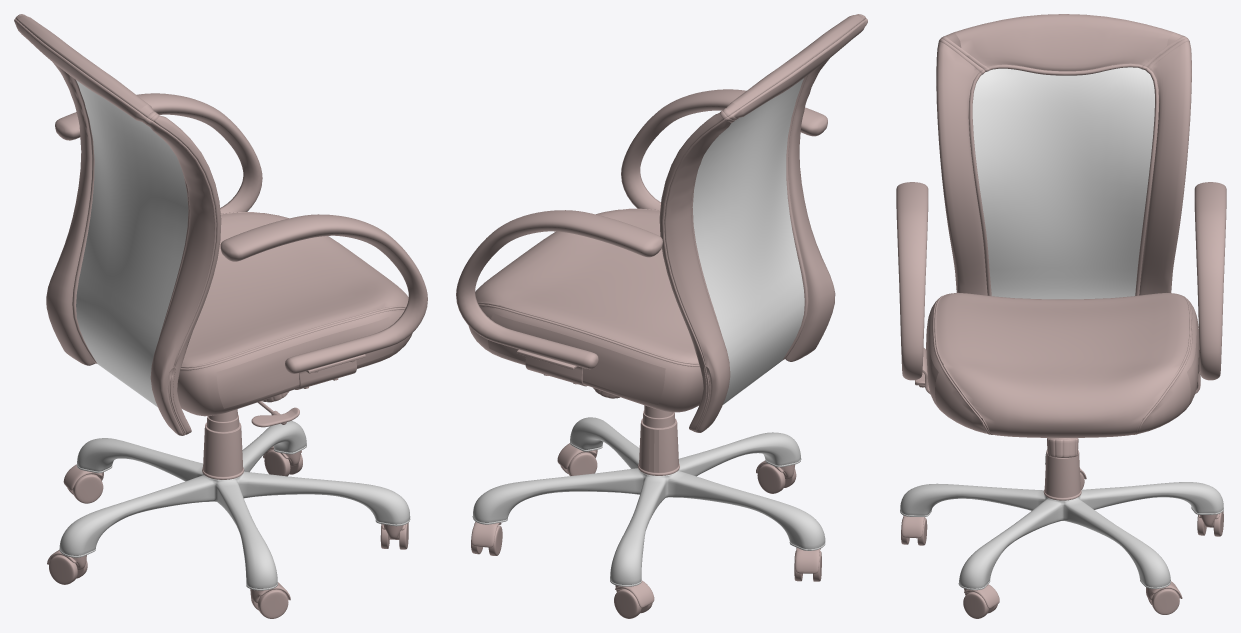
File: LightChair.glb
The picture shows the model from 3 angles, left to right: view 1: azimuth 30°, elevation 25°; view 2: azimuth 150°, elevation 25°; view 3: azimuth 270°, elevation 25°; orthographic projection. The views are drawn at different scales.
Parts seen in each view (by area): view 1: Box02, Box01, Rectangle02_Chrome_0.001, Line04, Line05, Cylinder01, Rectangle11, Cylinder24, Cylinder25_Matteplastic_0.001, Cylinder02, Cylinder19, Circle01; view 2: Box02, Box01, Rectangle02_Chrome_0.001, Line05, Line04, Cylinder01, Rectangle11, Cylinder24, Cylinder02, Cylinder22, Cylinder26, Cylinder20; view 3: Box02, Box01, Rectangle02_Chrome_0.001, Line04, Line05, Cylinder01, Cylinder03, Cylinder19, Cylinder22, Cylinder23.
Part boxes in pixels (bbox=[...]): Box02: bbox=[14, 14, 221, 435]; Box01: bbox=[177, 212, 412, 416]; Rectangle02_Chrome_0.001: bbox=[59, 421, 410, 590]; Line04: bbox=[220, 214, 427, 373]; Line05: bbox=[55, 93, 262, 213]; Cylinder01: bbox=[202, 409, 244, 479]; Rectangle11: bbox=[295, 354, 365, 389]; Cylinder24: bbox=[251, 589, 288, 618]; Cylinder25_Matteplastic_0.001: bbox=[49, 555, 87, 584]; Cylinder02: bbox=[67, 474, 103, 503]; Cylinder19: bbox=[264, 449, 302, 476]; Circle01: bbox=[251, 407, 299, 427]; Box02: bbox=[659, 14, 867, 432]; Box01: bbox=[468, 208, 703, 412]; Rectangle02_Chrome_0.001: bbox=[472, 417, 825, 586]; Line05: bbox=[456, 210, 662, 369]; Line04: bbox=[621, 89, 827, 210]; Cylinder01: bbox=[638, 405, 679, 475]; Rectangle11: bbox=[516, 349, 587, 386]; Cylinder24: bbox=[757, 464, 796, 493]; Cylinder02: bbox=[614, 589, 652, 618]; Cylinder22: bbox=[560, 452, 597, 475]; Cylinder26: bbox=[795, 547, 820, 573]; Cylinder20: bbox=[471, 521, 501, 547]; Box02: bbox=[936, 14, 1191, 299]; Box01: bbox=[926, 292, 1199, 437]; Rectangle02_Chrome_0.001: bbox=[900, 452, 1223, 590]; Line04: bbox=[896, 182, 928, 380]; Line05: bbox=[1194, 182, 1226, 380]; Cylinder01: bbox=[1043, 449, 1081, 500]; Cylinder03: bbox=[1047, 438, 1078, 457]; Cylinder19: bbox=[1148, 588, 1179, 614]; Cylinder22: bbox=[963, 592, 997, 618]; Cylinder23: bbox=[901, 515, 924, 538].
Size of the model in its own units: 65.04 by 101 by 63.48.
5 materials, 1 textured.
